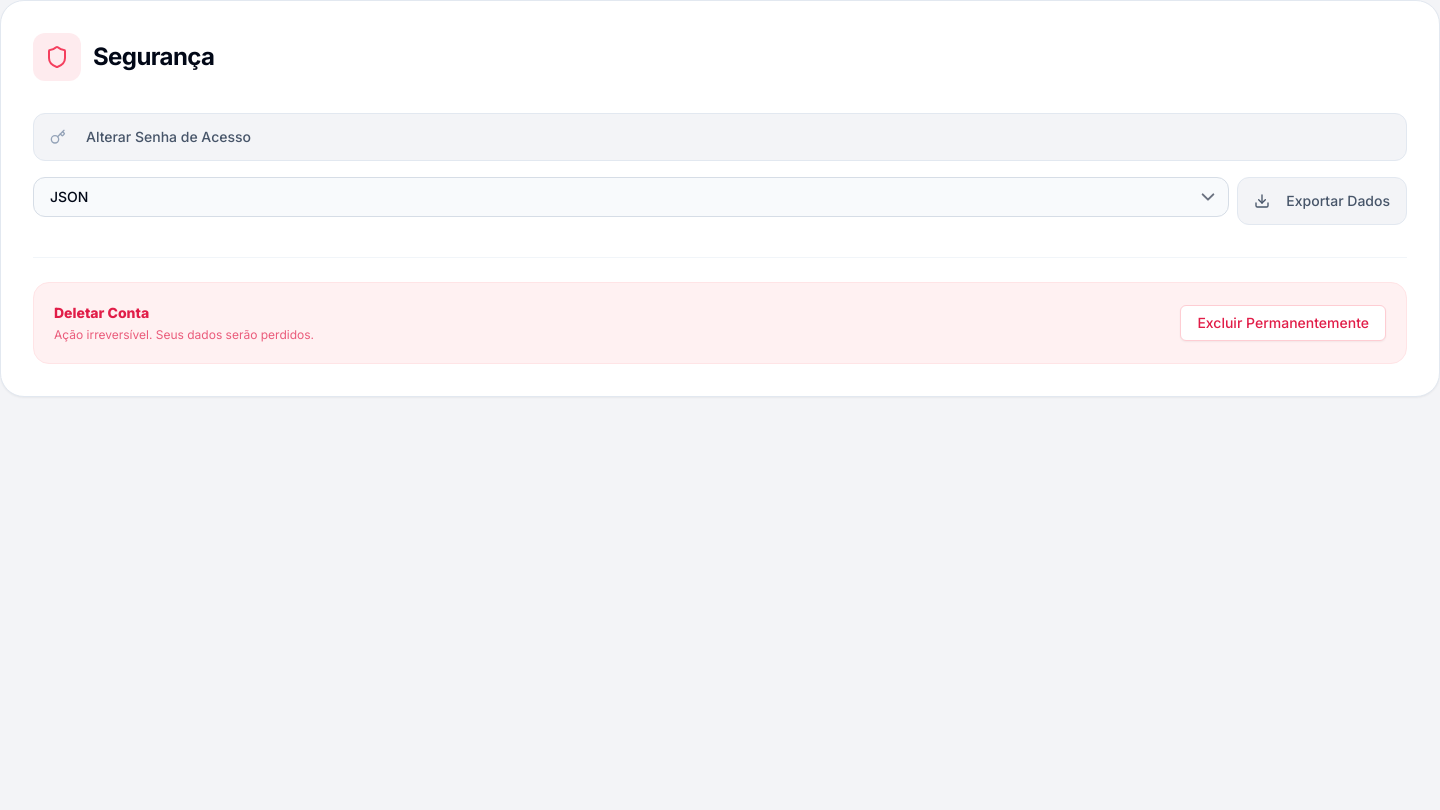
Test: ProfileSecuritySection — delete account dialog › opens delete account dialog when button is clicked
Click the button "Excluir Permanentemente" at (1283, 323), box [1180, 305, 1386, 341]
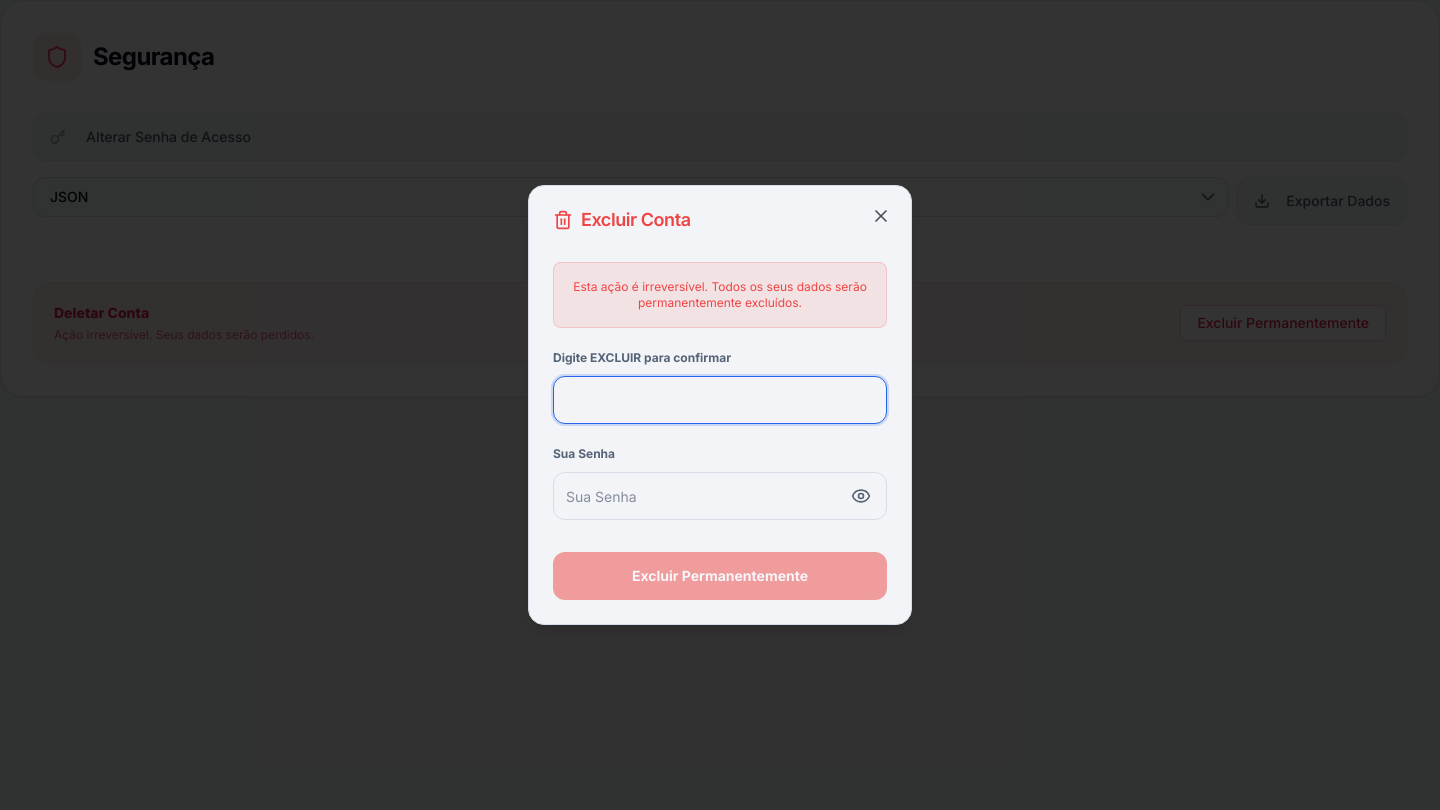
Expected: the dialog is shown, [528, 185, 912, 625]
